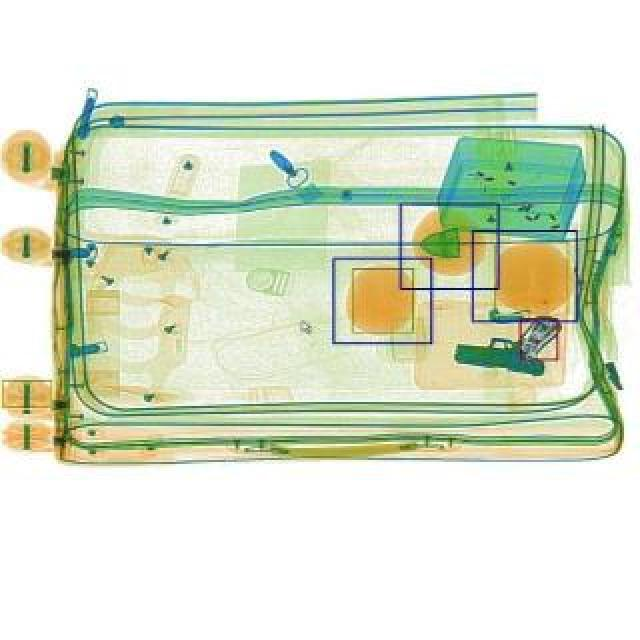gun: (450, 300, 558, 378)
